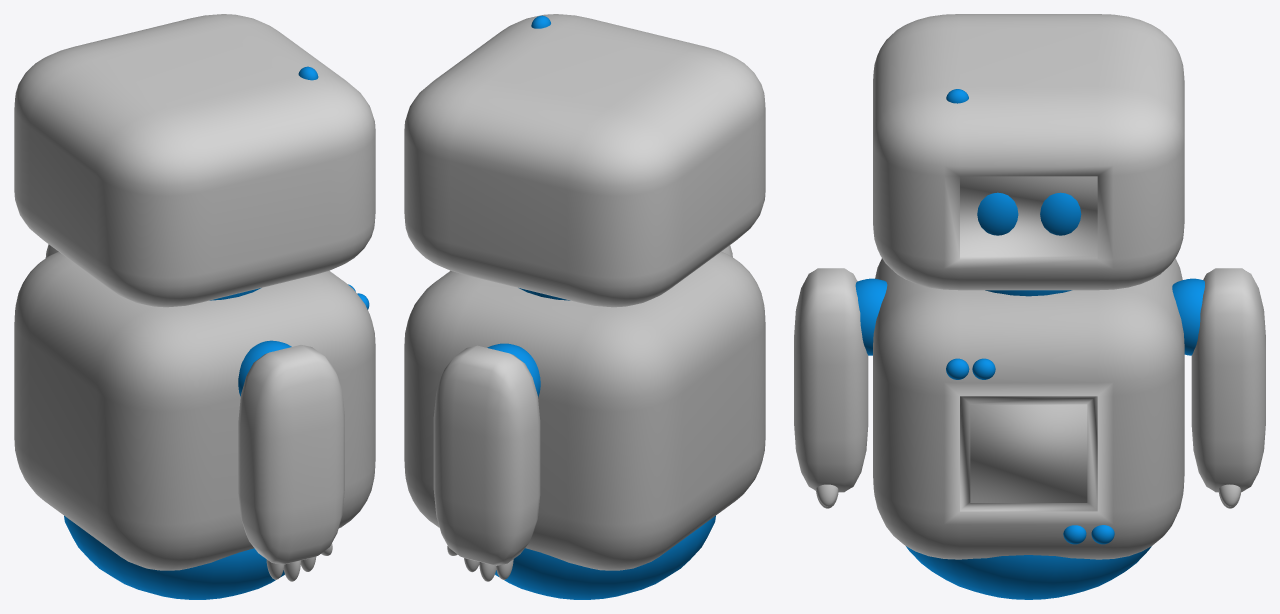
The model's file is robot.glb.
3 views of the same model, side by side, from view 1: azimuth 30°, elevation 25°; view 2: azimuth 150°, elevation 25°; view 3: azimuth 270°, elevation 25° (orthographic). The views are drawn at different scales.
Parts seen in each view (by area): view 1: Cube.002, Cube.001, Cube.003, Sphere.005, Sphere.004; view 2: Cube.002, Cube.001, Cube, Sphere.005, Sphere.003; view 3: Cube.001, Cube.002, Cube.003, Cube, Sphere.005, Sphere.003, Sphere.004, Sphere.002, Sphere.001.
Boxes of the visible parts, x1,y1,x2,y2 form: Cube.002: (14,14,375,307); Cube.001: (14,251,375,570); Cube.003: (238,345,344,564); Sphere.005: (64,516,284,599); Sphere.004: (238,340,291,396); Cube.002: (404,14,765,307); Cube.001: (404,251,765,570); Cube: (433,345,540,565); Sphere.005: (495,516,715,599); Sphere.003: (487,343,540,397); Cube.001: (873,258,1184,559); Cube.002: (873,14,1184,290); Cube.003: (794,268,868,492); Cube: (1191,268,1265,492); Sphere.005: (906,546,1151,599); Sphere.003: (1172,278,1204,355); Sphere.004: (855,278,887,355); Sphere.002: (1040,192,1081,235); Sphere.001: (977,192,1018,235).
Bounding box in the file's own units: 2.04 × 3.76 × 3.03.
